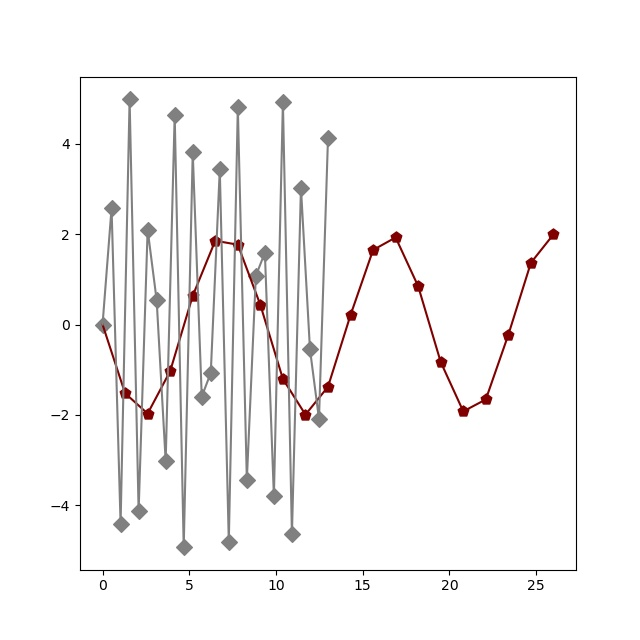diamond: (97, 319, 110, 332), (106, 202, 119, 215), (115, 518, 128, 531), (124, 93, 137, 106), (133, 505, 146, 518), (142, 224, 155, 237), (151, 294, 164, 307), (160, 455, 173, 468), (169, 109, 182, 122), (178, 541, 191, 554), (187, 146, 200, 159), (196, 391, 209, 404), (205, 367, 218, 380), (214, 163, 227, 176), (223, 536, 236, 549), (232, 101, 245, 114), (241, 474, 254, 487), (250, 270, 263, 283), (259, 247, 272, 260), (268, 490, 281, 503), (277, 96, 290, 109), (286, 528, 299, 541), (295, 182, 308, 195), (304, 343, 317, 356), (313, 413, 326, 426), (322, 132, 335, 145)
pentagon: (97, 319, 110, 332), (119, 387, 132, 400), (142, 408, 155, 421), (164, 365, 177, 378), (187, 290, 200, 303), (209, 235, 222, 248), (232, 239, 245, 252), (254, 299, 267, 312), (277, 373, 290, 386), (299, 409, 312, 422), (322, 381, 335, 394), (345, 309, 358, 322), (367, 244, 380, 257), (390, 231, 403, 244), (412, 280, 425, 293), (435, 356, 448, 369), (457, 405, 470, 418), (480, 393, 493, 406), (502, 329, 515, 342), (525, 257, 538, 270), (547, 228, 560, 241)
